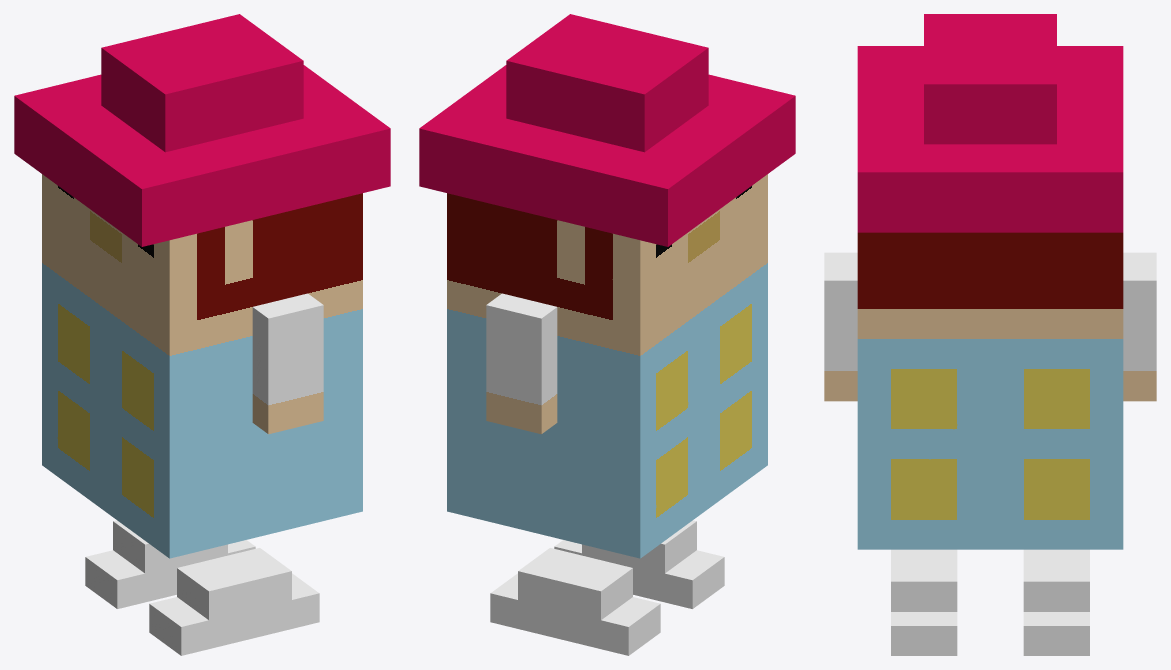
The model's file is Player_15.fbx.
3 renders of one model, left to right at view 1: azimuth 30°, elevation 25°; view 2: azimuth 150°, elevation 25°; view 3: azimuth 270°, elevation 25°, orthographic. The views are drawn at different scales.
Visible parts, largest first — view 1: Main, LeftFoot, LeftHand, RightFoot; view 2: Main, RightFoot, RightHand, LeftFoot; view 3: Main, LeftFoot, RightFoot, RightHand, LeftHand.
Boxes of the visible parts, x1,y1,x2,y2 form: Main: [14, 14, 390, 558]; LeftFoot: [149, 548, 319, 655]; LeftHand: [252, 293, 323, 434]; RightFoot: [85, 520, 255, 608]; Main: [419, 14, 795, 558]; RightFoot: [490, 548, 660, 655]; RightHand: [486, 293, 557, 434]; LeftFoot: [554, 520, 724, 608]; Main: [857, 14, 1123, 549]; LeftFoot: [891, 549, 957, 655]; RightFoot: [1023, 549, 1089, 655]; RightHand: [1123, 252, 1156, 401]; LeftHand: [824, 252, 857, 401].
Size of the model in its own units: 9 by 19 by 10.
1 material, 1 textured.
